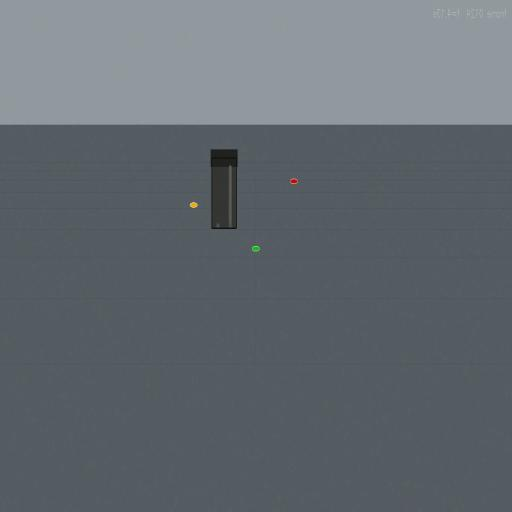bin: (210, 149, 238, 231)
